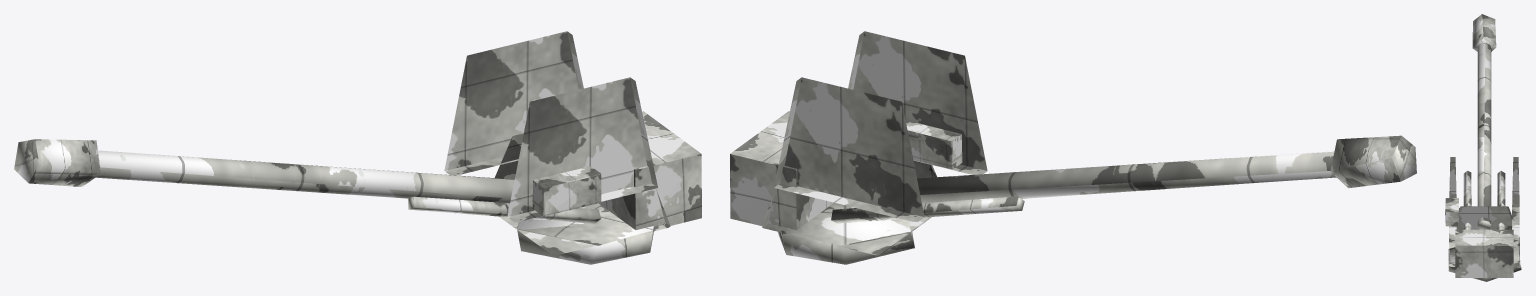
File: artillery_turret_lod.glb
The picture shows the model from 3 angles, left to right: view 1: azimuth 30°, elevation 25°; view 2: azimuth 150°, elevation 25°; view 3: azimuth 270°, elevation 25°; orthographic projection. The views are drawn at different scales.
Parts seen in each view (by area): view 1: artillery_turret_lod; view 2: artillery_turret_lod; view 3: artillery_turret_lod.
Part boxes in pixels (left/top/right/bottom): artillery_turret_lod: left=14, top=31, right=701, bottom=264; artillery_turret_lod: left=730, top=31, right=1416, bottom=264; artillery_turret_lod: left=1445, top=14, right=1521, bottom=281.
Size of the model in its own units: 5.59 by 1.9 by 1.13.
1 material, 1 textured.
